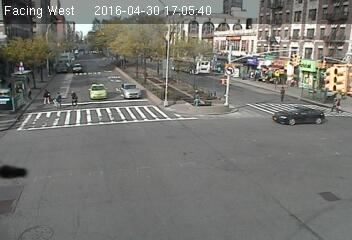neg: (304, 127, 340, 174), (224, 20, 247, 51), (16, 32, 37, 60), (250, 68, 270, 95), (200, 9, 220, 36), (319, 17, 338, 43), (63, 34, 82, 60), (237, 89, 256, 115), (117, 31, 136, 56), (83, 41, 102, 65), (298, 14, 316, 38), (264, 136, 282, 159), (175, 71, 192, 93), (156, 61, 170, 80), (136, 67, 150, 85), (273, 110, 287, 128), (278, 37, 290, 54), (52, 35, 63, 50), (198, 80, 209, 95), (229, 47, 239, 61), (202, 61, 212, 75), (151, 31, 160, 44)
pos: (277, 85, 291, 102), (39, 86, 52, 104), (67, 90, 79, 106), (54, 92, 66, 108), (193, 90, 205, 105), (26, 88, 36, 101), (7, 81, 16, 93), (24, 74, 32, 85)
